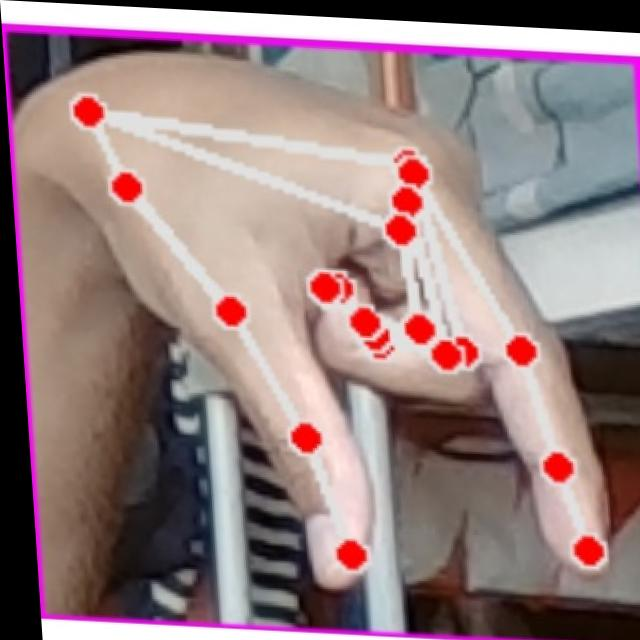Q: (25, 39, 628, 613)
